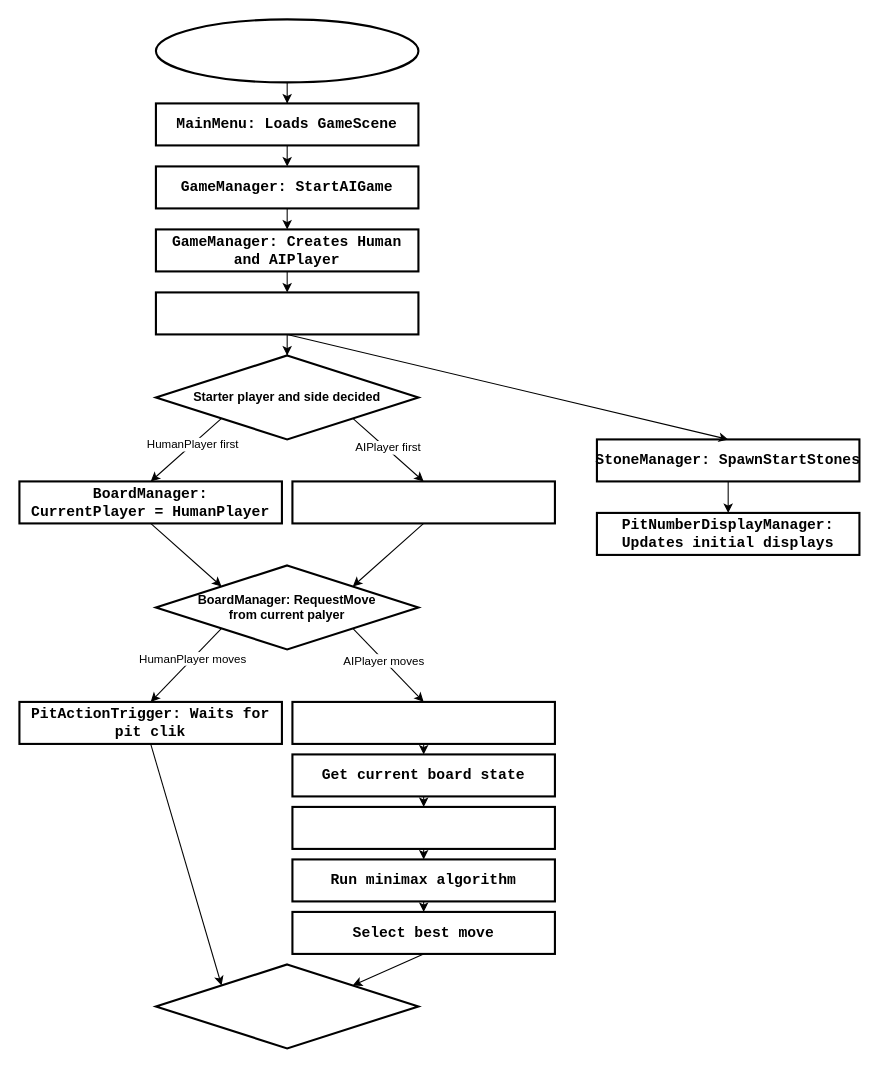
This 878x1067 diagram has some shape labels left out. Here are the shapes that lost their labels. From the top down, the centre of each, then its label:
(286,50): User clicks 'Play vs AI'
(286,313): BoardManager: CreateNewGame
(423,502): BoardManager: CurrentPlayer = AIPlayer
(423,722): AIPlayer: Runs ai_move.py script
(423,827): Calculate avaliable moves
(286,1006): BoardManager: Validates move
